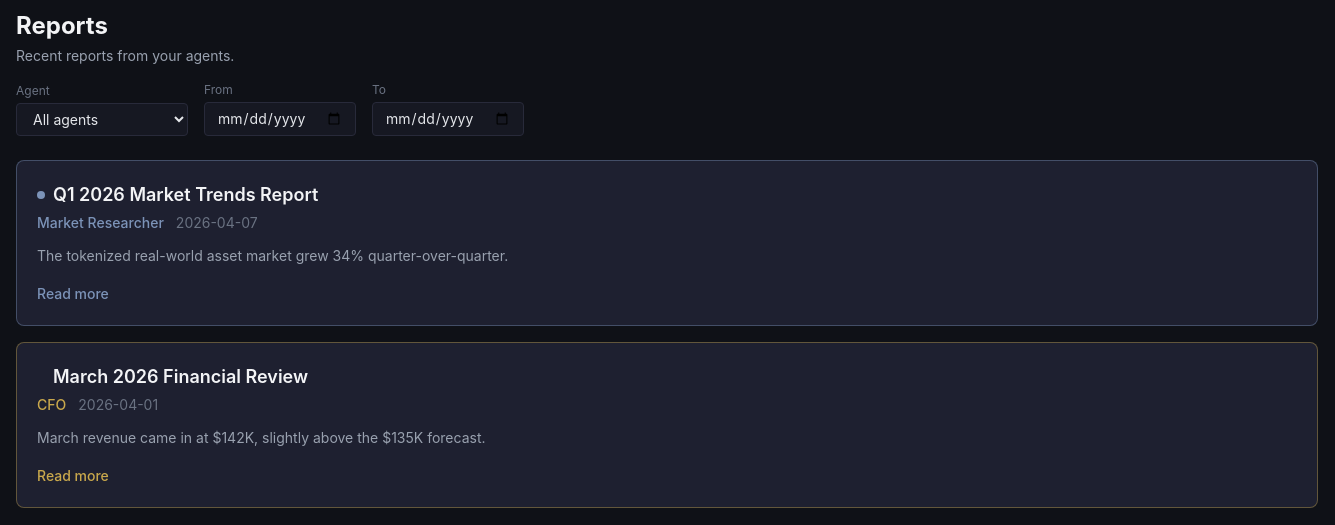
Scenario: ReportsFeed › filters reports by date range
Expected: the heading "Q1 2026 Market Trends Report" is shown, [53,181,318,209]
Note: Set date-from to 2026-04-05 which should exclude the CFO report (2026-04-01)
In the date field with test id "date-from": [280, 119] box [204,102,356,136], type "2026-04-05"
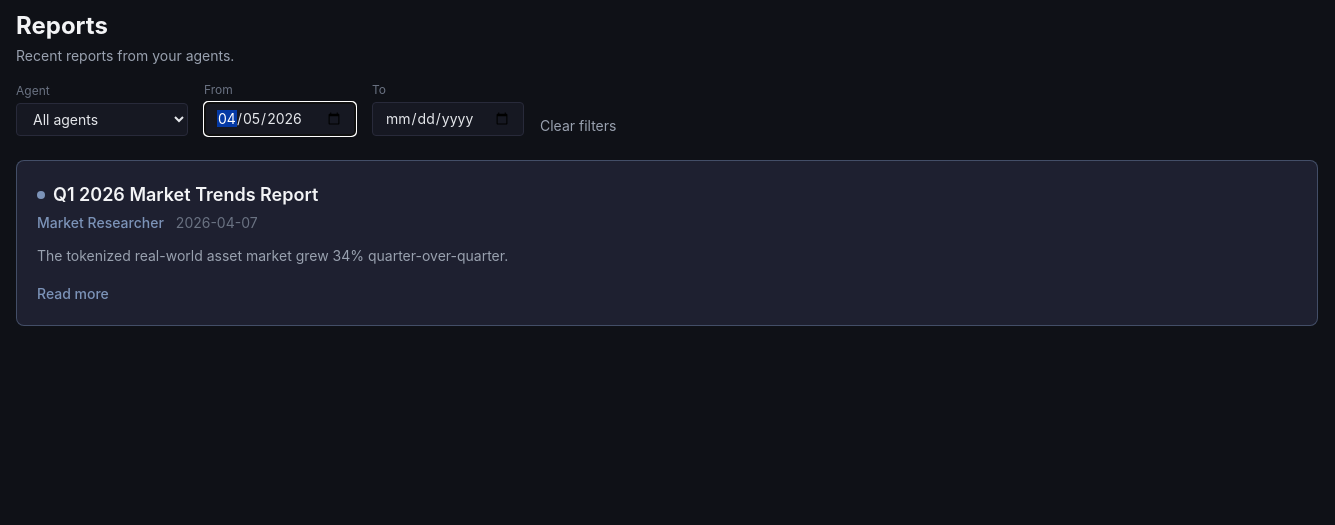
Expected: the heading "Q1 2026 Market Trends Report" is shown, [53,181,318,209]
Expected: the heading "March 2026 Financial Review" is gone
